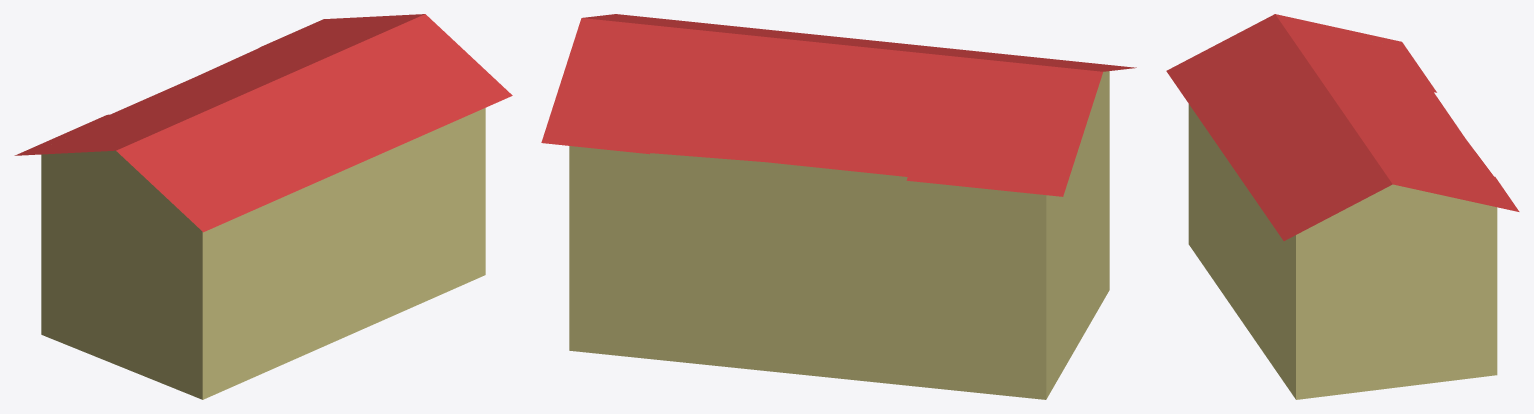
The picture shows the model from 3 angles, left to right: view 1: azimuth 30°, elevation 25°; view 2: azimuth 150°, elevation 25°; view 3: azimuth 270°, elevation 25°; orthographic projection. The views are drawn at different scales.
Bounding box in the file's own units: 13.05 × 9.78 × 6.45.
